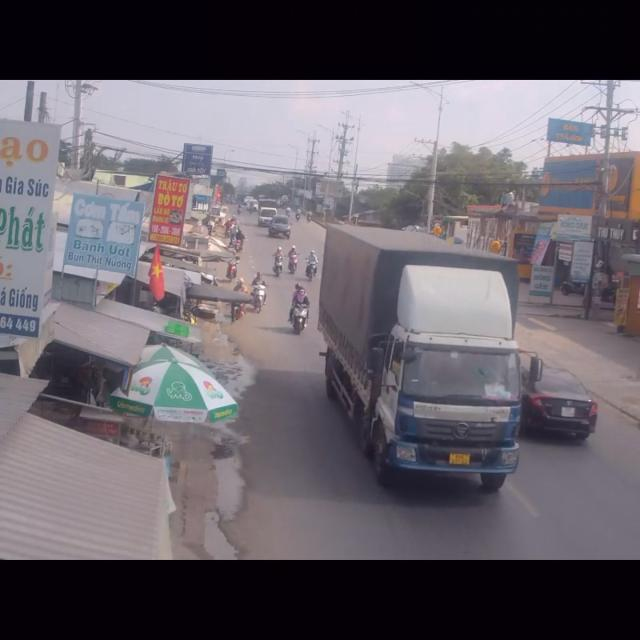car: (522, 355, 598, 443)
motorbike: (291, 282, 311, 335), (250, 270, 265, 315)
truck: (317, 225, 520, 489)
